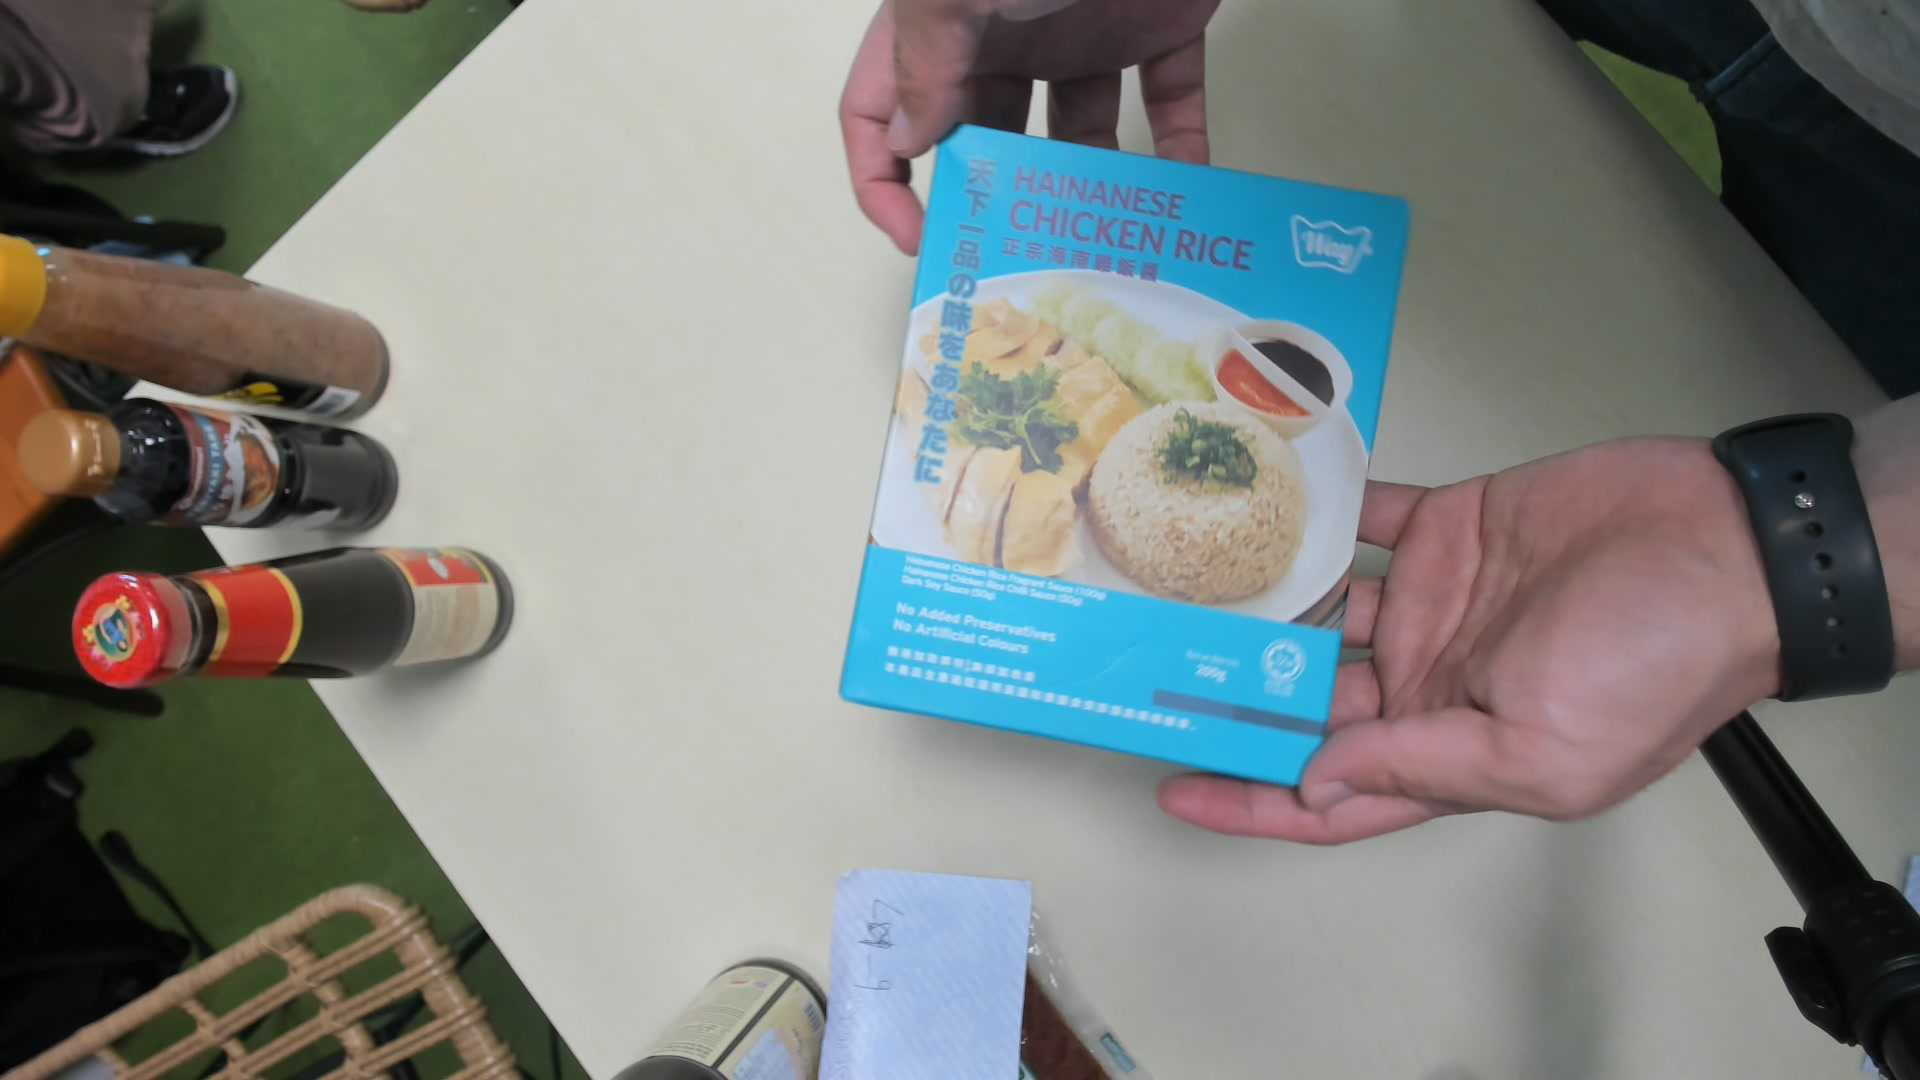OtherSauceDressingSoupbasePaste_200-299g_Halal_NonHealthy: (844, 123, 1396, 789)
